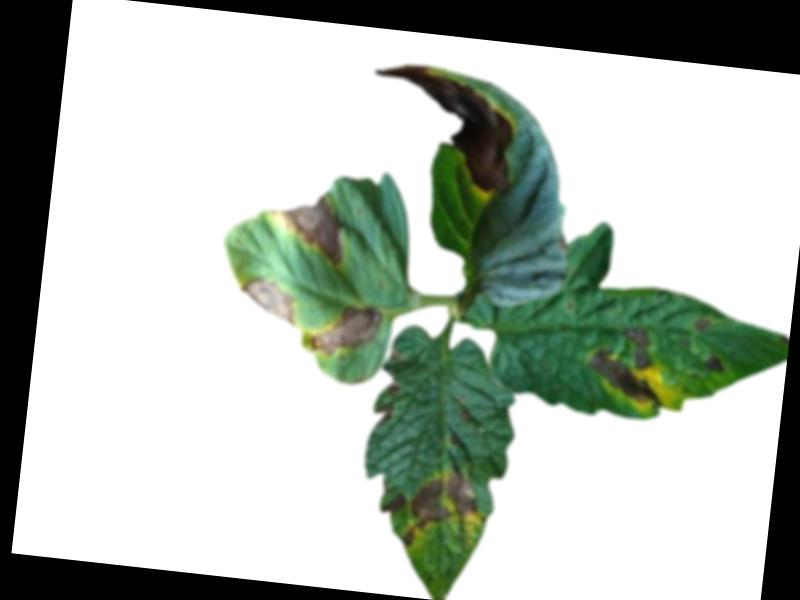Early_blight: (364, 59, 521, 195), (398, 462, 482, 553), (586, 322, 671, 407), (270, 190, 347, 263), (306, 297, 382, 361), (235, 274, 298, 326), (375, 379, 400, 427), (381, 489, 406, 518), (702, 352, 724, 373), (692, 313, 712, 330)
